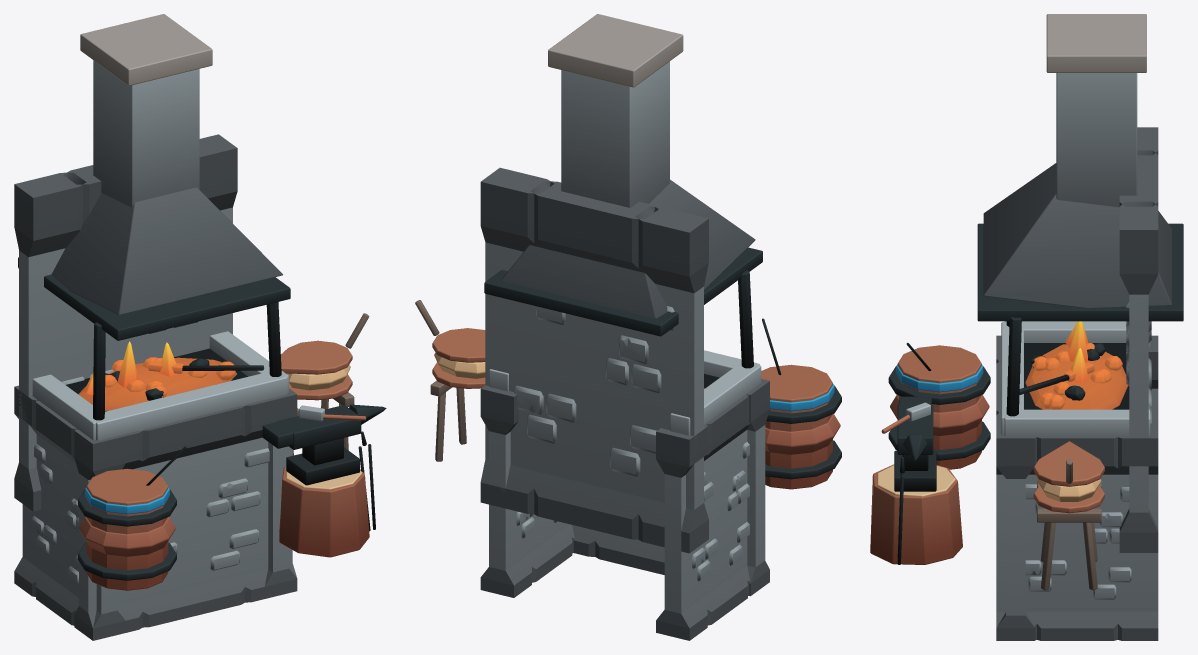
Rendered from forge.glb.
The picture shows the model from 3 angles, left to right: view 1: azimuth 30°, elevation 25°; view 2: azimuth 150°, elevation 25°; view 3: azimuth 270°, elevation 25°; orthographic projection. The views are drawn at different scales.
Parts seen in each view (by area): view 1: forge; view 2: forge; view 3: forge.
Boxes of the visible parts, x1,y1,x2,y2 form: forge: (14, 14, 386, 640); forge: (415, 14, 841, 640); forge: (870, 14, 1183, 640).
Bounding box in the file's own units: 2.55 × 3.78 × 1.94.
8 materials, 8 textured.
